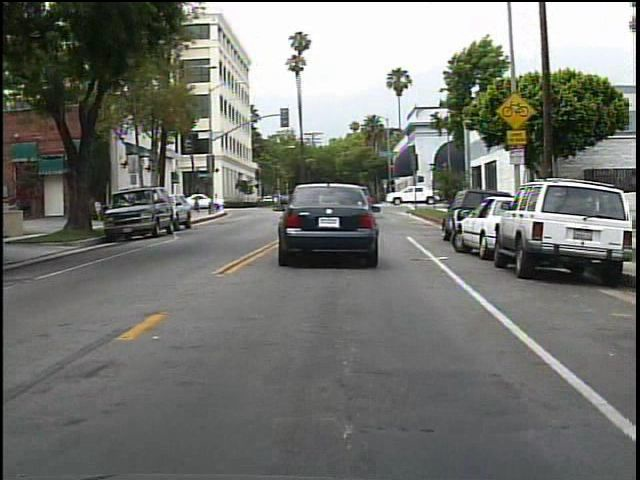person: (190, 192, 202, 219)
